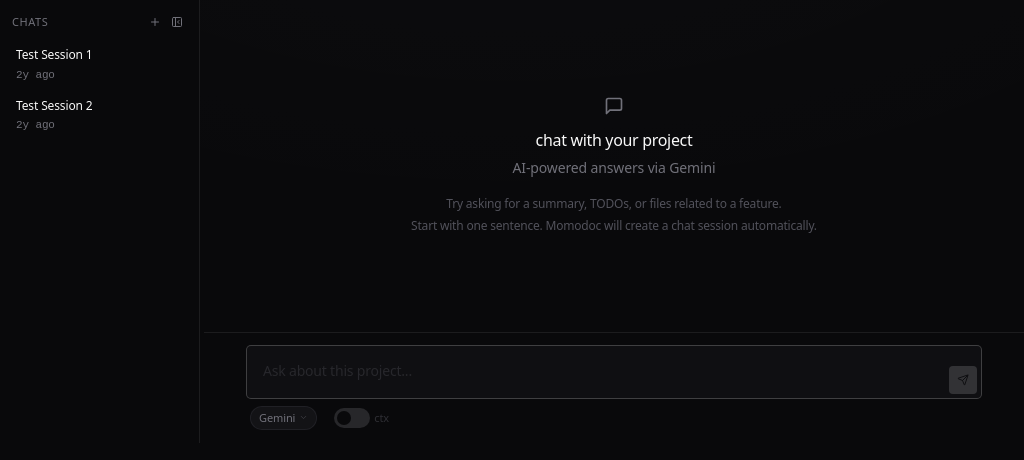
it: UnifiedSearchChat › Chat Streaming › should send message and stream response
Type "test message" into the text box with placeholder "Ask about this project..." at [596, 372], box [251, 350, 941, 394]
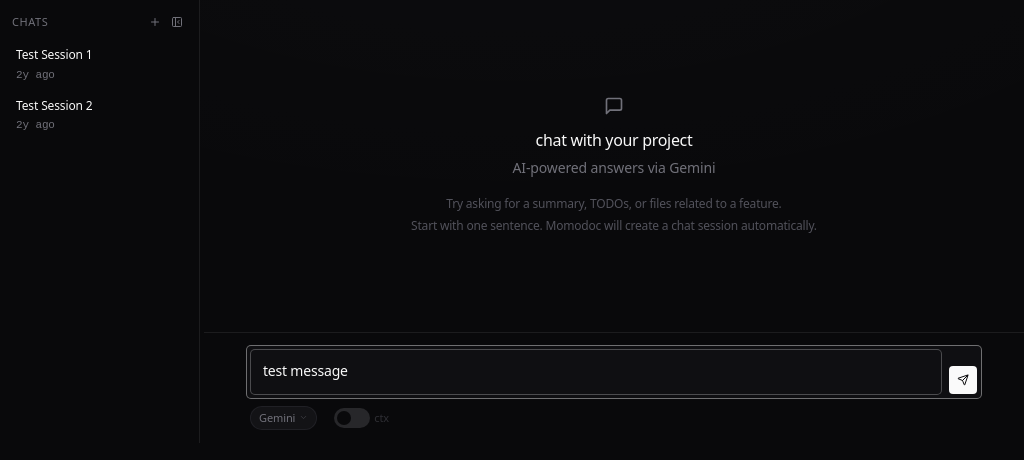
Click the button named "submit" at [963, 380], box [949, 366, 977, 394]
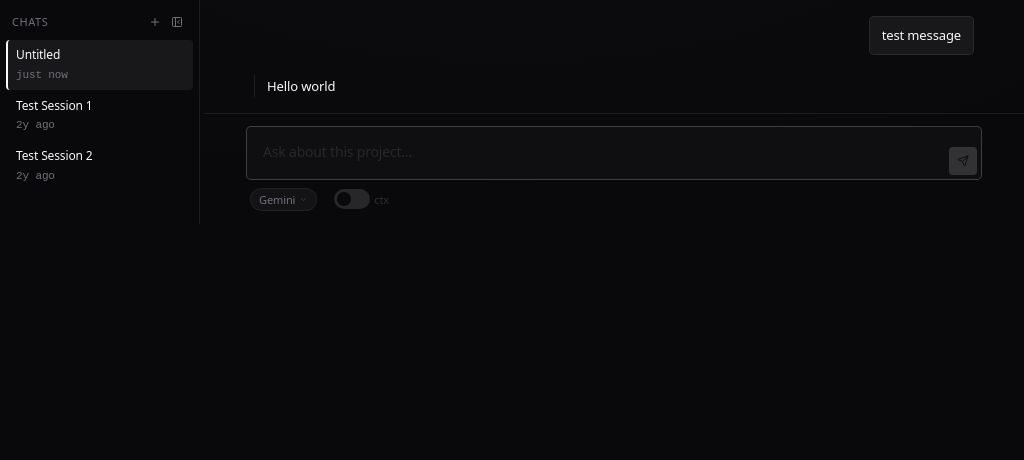
expect the text "Hello world" is shown: met, box [267, 77, 335, 95]
